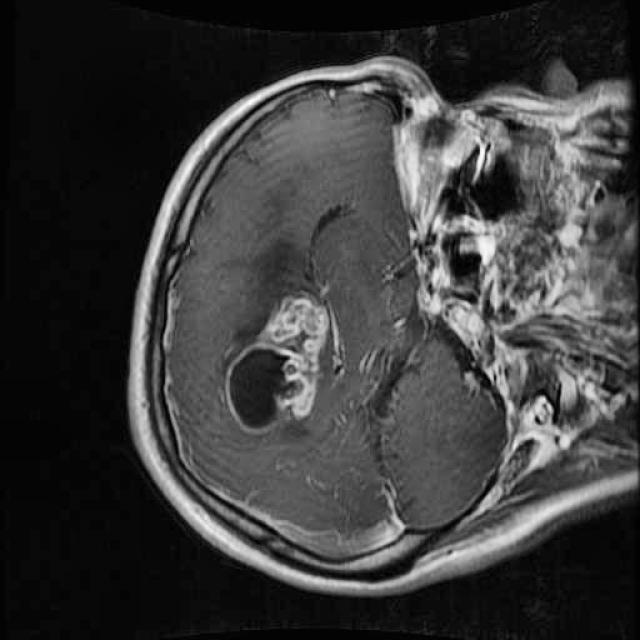Tumor: (215, 285, 339, 439)
